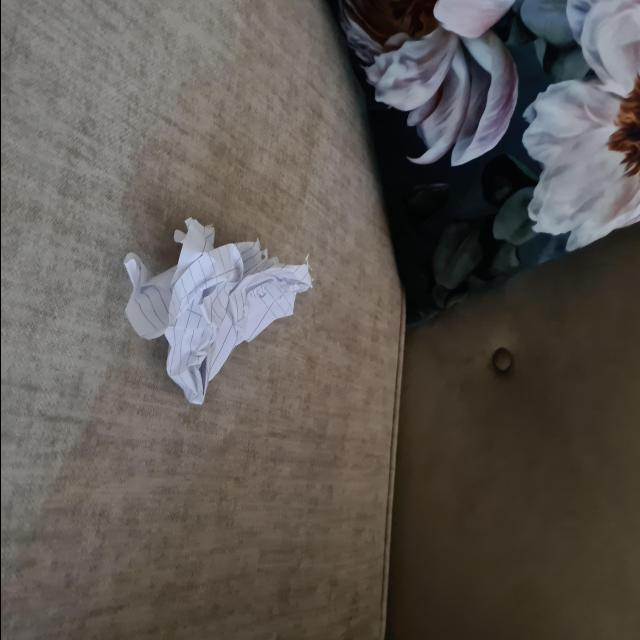kertas: (126, 227, 314, 398)
